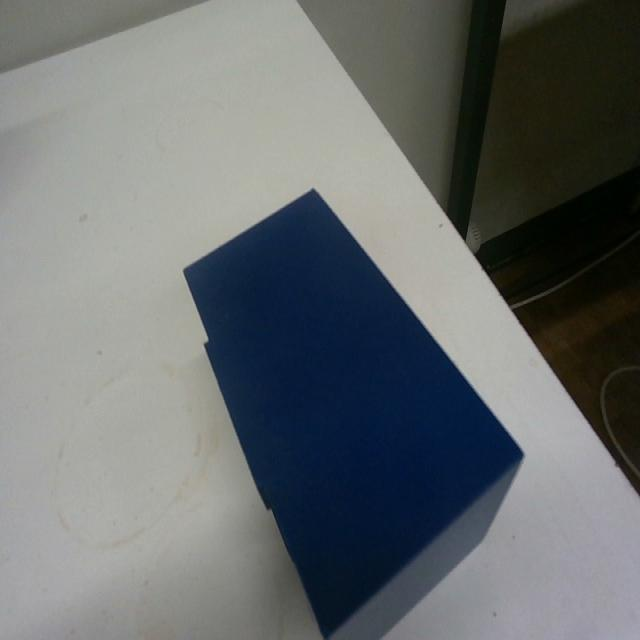Blue Cuboid: (181, 184, 525, 637)
